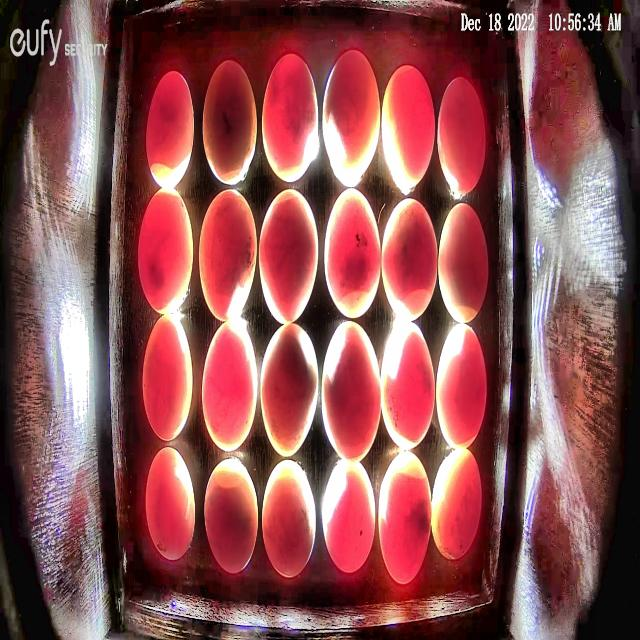FE: (320, 318, 381, 465), (259, 321, 320, 458), (321, 49, 381, 188), (258, 188, 318, 327), (199, 188, 257, 322), (261, 52, 319, 184), (324, 188, 382, 320), (377, 448, 431, 586), (202, 319, 258, 451), (138, 186, 194, 315), (381, 197, 438, 323), (381, 322, 436, 451), (202, 59, 258, 184), (381, 63, 435, 192), (203, 455, 260, 573), (262, 459, 318, 579), (142, 315, 194, 442), (436, 321, 487, 449), (321, 456, 376, 574), (145, 70, 195, 190), (438, 203, 488, 323), (437, 74, 486, 196), (145, 444, 195, 562), (431, 448, 482, 561)
